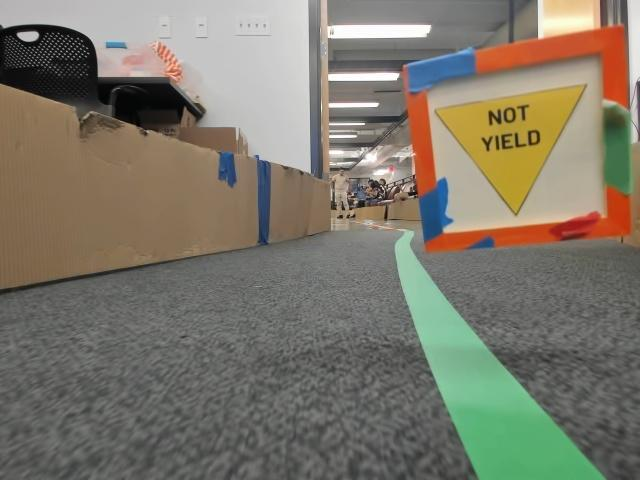Do Not Yield: (435, 108, 586, 228)
